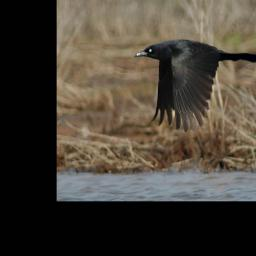Crow: (132, 38, 256, 133)
